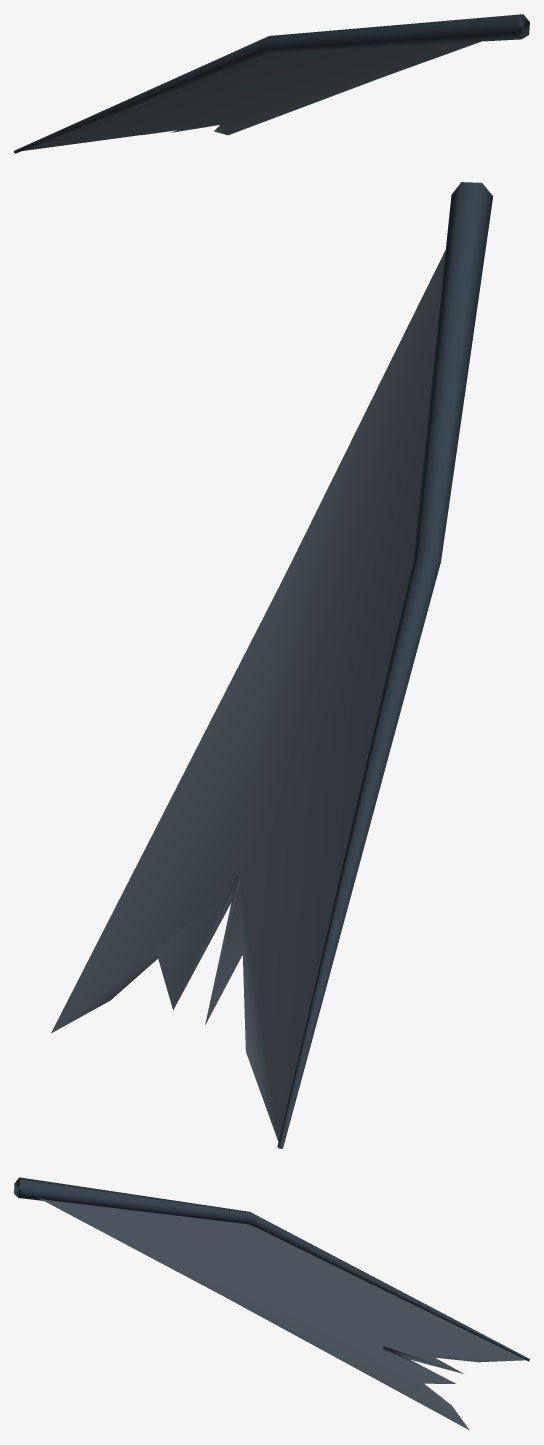
Rendered from L_Wing_Membrane_3.obj.
3 renders of one model, top to bottom at view 1: azimuth 30°, elevation 25°; view 2: azimuth 150°, elevation 25°; view 3: azimuth 270°, elevation 25°, orthographic. The views are drawn at different scales.
Visible parts, largest first — view 1: L_Wing_Membrane_3; view 2: L_Wing_Membrane_3; view 3: L_Wing_Membrane_3.
Boxes of the visible parts, x1,y1,x2,y2 form: L_Wing_Membrane_3: (14,14,529,153); L_Wing_Membrane_3: (51,182,493,1148); L_Wing_Membrane_3: (14,1177,529,1430).
Bounding box in the file's own units: 2.05 × 3 × 5.42.
